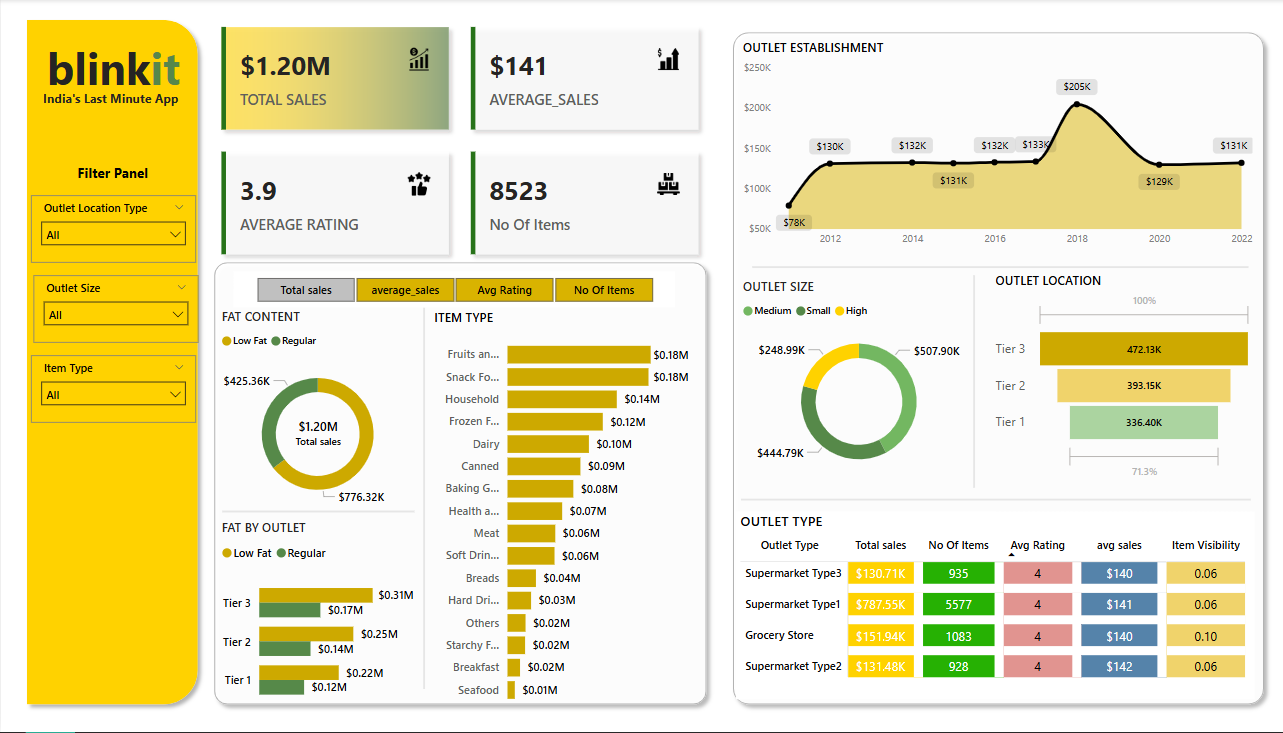

The page's visual inventory and layout, read from the dashboard file:
{"tool":"powerbi","page":{"name":"Page 1","canvas":[1400,800],"ordinal":0},"visuals":[{"type":"shape","box":[19.1,13.6,204.5,764.8],"z":0},{"type":"textbox","box":[40.9,36.8,163.6,75],"z":1000},{"type":"textbox","box":[40.9,94.1,169.1,35.4],"z":2000},{"type":"cardVisual","fields":{"Data":["BlinkIT Grocery Data.Total sales","BlinkIT Grocery Data.average_sales","BlinkIT Grocery Data.Avg Rating","BlinkIT Grocery Data.No Of Items"]},"box":[223.6,13.6,554.9,283.6],"z":3000},{"type":"shape","box":[223.6,278.1,554.9,500.3],"z":4000},{"type":"donutChart","title":"FAT CONTENT","fields":{"Y":["BlinkIT Grocery Data.Total sales"],"Category":["BlinkIT Grocery Data.Item Fat Content"]},"box":[235.9,336.7,219.5,230.4],"z":5000},{"type":"slicer","fields":{"Values":["metrice.metrice"]},"box":[253.6,297.2,481.3,39.5],"z":6000},{"type":"cardVisual","fields":{"Data":["BlinkIT Grocery Data.Total sales"]},"box":[298.6,440.4,95.4,57.3],"z":7000},{"type":"clusteredBarChart","title":"FAT BY OUTLET","fields":{"Y":["BlinkIT Grocery Data.Total sales"],"Category":["BlinkIT Grocery Data.Outlet Location Type"],"Series":["BlinkIT Grocery Data.Item Fat Content"]},"box":[235.9,567.1,219.5,215.4],"z":8000},{"type":"shape","box":[241.3,549.4,210,19.1],"z":9000},{"type":"shape","box":[455.4,336.7,12.3,415.8],"z":10000},{"type":"barChart","title":"ITEM TYPE","fields":{"Y":["BlinkIT Grocery Data.Total sales"],"Category":["BlinkIT Grocery Data.Item Type"]},"box":[467.6,338.1,287.7,440.4],"z":11000},{"type":"shape","box":[789.4,27.3,597.1,751.2],"z":11001},{"type":"lineChart","title":"OUTLET ESTABLISHMENT","fields":{"Y":["BlinkIT Grocery Data.Total sales"],"Category":["BlinkIT Grocery Data.Outlet Establishment Year"]},"box":[804.4,43.6,565.8,234.5],"z":11002},{"type":"shape","box":[819.4,287.7,541.2,9.5],"z":11003},{"type":"donutChart","title":"OUTLET SIZE","fields":{"Y":["BlinkIT Grocery Data.Total sales"],"Category":["BlinkIT Grocery Data.Outlet Size"]},"box":[804.4,304,263.1,225],"z":11004},{"type":"shape","box":[1055.2,301.3,12.3,231.8],"z":11005},{"type":"funnel","title":"OUTLET LOCATION","fields":{"Y":["Sum(BlinkIT Grocery Data.Sales)"],"Category":["BlinkIT Grocery Data.Outlet Location Type"]},"box":[1079.8,297.2,290.4,231.8],"z":11006},{"type":"pivotTable","title":"OUTLET TYPE","fields":{"Rows":["BlinkIT Grocery Data.Outlet Type"],"Values":["BlinkIT Grocery Data.Total sales","BlinkIT Grocery Data.No Of Items","BlinkIT Grocery Data.Avg Rating","BlinkIT Grocery Data.avg sales","Avg(BlinkIT Grocery Data.Item Visibility)"]},"box":[801.6,559,565.8,204.5],"z":11007},{"type":"shape","box":[807.1,541.2,556.2,9.5],"z":11008},{"type":"slicer","fields":{"Values":["BlinkIT Grocery Data.Outlet Location Type"]},"box":[32.7,214,180,73.6],"z":11009},{"type":"slicer","fields":{"Values":["BlinkIT Grocery Data.Outlet Size"]},"box":[35.4,301.3,180,73.6],"z":11010},{"type":"slicer","fields":{"Values":["BlinkIT Grocery Data.Item Type"]},"box":[32.7,388.6,180,73.6],"z":11011},{"type":"textbox","box":[38.2,174.5,167.7,39.5],"z":11012}]}

Visuals, with their boxes in screenshot pixels (x1, y1, x2, y2), scaled from the page's 1400x800 canvas onto the 1283x733 screenshot:
shape: x1=18, y1=12, x2=205, y2=713
textbox: x1=37, y1=34, x2=187, y2=102
textbox: x1=37, y1=86, x2=192, y2=119
cardVisual - BlinkIT Grocery Data.Total sales x BlinkIT Grocery Data.average_sales: x1=205, y1=12, x2=713, y2=272
shape: x1=205, y1=255, x2=713, y2=713
"FAT CONTENT" donutChart: x1=216, y1=309, x2=417, y2=520
slicer - metrice.metrice: x1=232, y1=272, x2=673, y2=309
cardVisual - BlinkIT Grocery Data.Total sales: x1=274, y1=404, x2=361, y2=456
"FAT BY OUTLET" clusteredBarChart: x1=216, y1=520, x2=417, y2=717
shape: x1=221, y1=503, x2=414, y2=521
shape: x1=417, y1=309, x2=429, y2=689
"ITEM TYPE" barChart: x1=429, y1=310, x2=692, y2=713
shape: x1=723, y1=25, x2=1271, y2=713
"OUTLET ESTABLISHMENT" lineChart: x1=737, y1=40, x2=1256, y2=255
shape: x1=751, y1=264, x2=1247, y2=272
"OUTLET SIZE" donutChart: x1=737, y1=279, x2=978, y2=485
shape: x1=967, y1=276, x2=978, y2=488
"OUTLET LOCATION" funnel: x1=990, y1=272, x2=1256, y2=485
"OUTLET TYPE" pivotTable: x1=735, y1=512, x2=1253, y2=700
shape: x1=740, y1=496, x2=1249, y2=505
slicer - BlinkIT Grocery Data.Outlet Location Type: x1=30, y1=196, x2=195, y2=264
slicer - BlinkIT Grocery Data.Outlet Size: x1=32, y1=276, x2=197, y2=344
slicer - BlinkIT Grocery Data.Item Type: x1=30, y1=356, x2=195, y2=423
textbox: x1=35, y1=160, x2=189, y2=196
